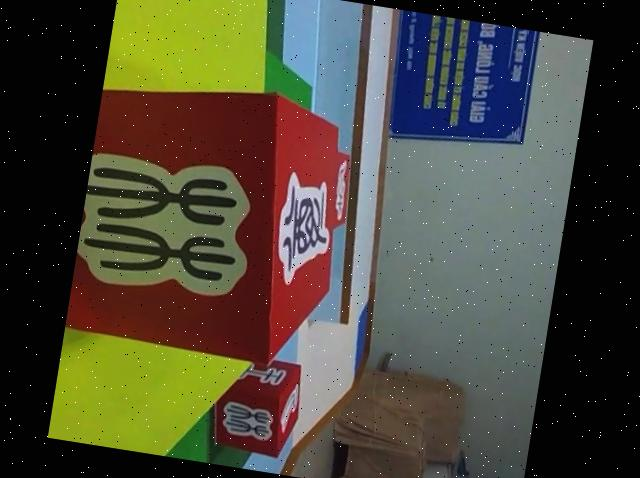R2 Fake: (63, 63, 361, 377), (205, 350, 311, 464)
